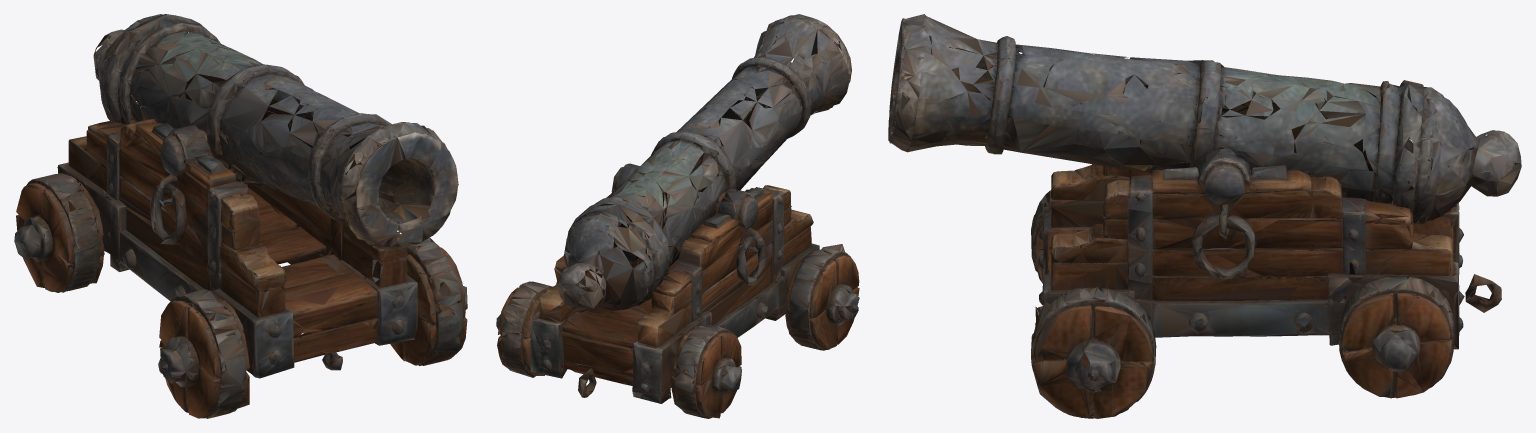
File: harbor-cannon.glb
3 renders of one model, left to right at view 1: azimuth 30°, elevation 25°; view 2: azimuth 150°, elevation 25°; view 3: azimuth 270°, elevation 25°, orthographic. The views are drawn at different scales.
Visible parts, largest first — view 1: harbor-cannon; view 2: harbor-cannon; view 3: harbor-cannon.
Boxes of the visible parts, x1,y1,x2,y2 form: harbor-cannon: (14, 14, 467, 418); harbor-cannon: (496, 14, 859, 418); harbor-cannon: (888, 14, 1521, 418).
Bounding box in the file's own units: 4.79 × 4.8 × 8.21.
1 material, 1 textured.
